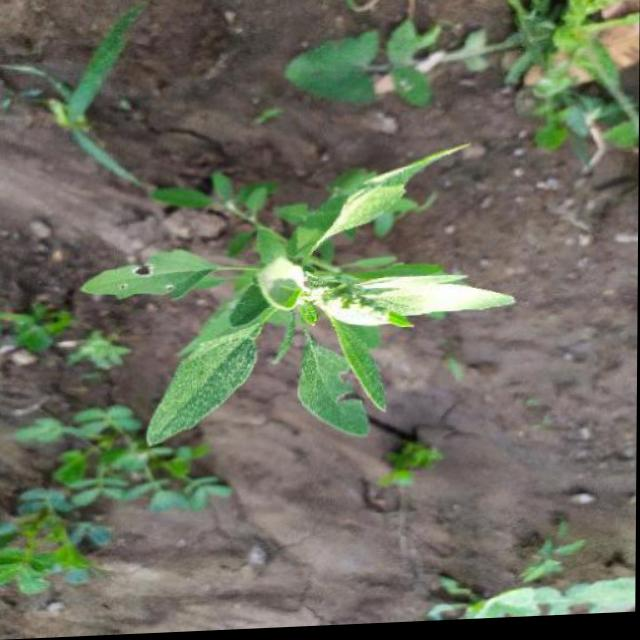weed: (85, 143, 528, 453)
